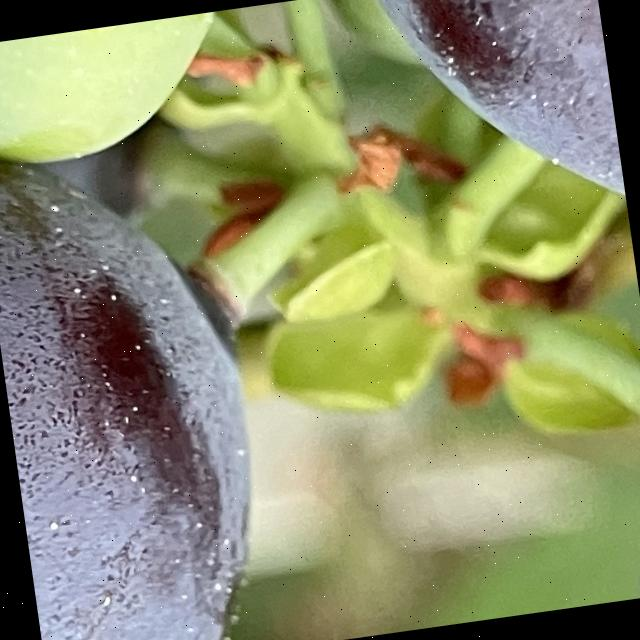Blueberries: (0, 75, 296, 640)
